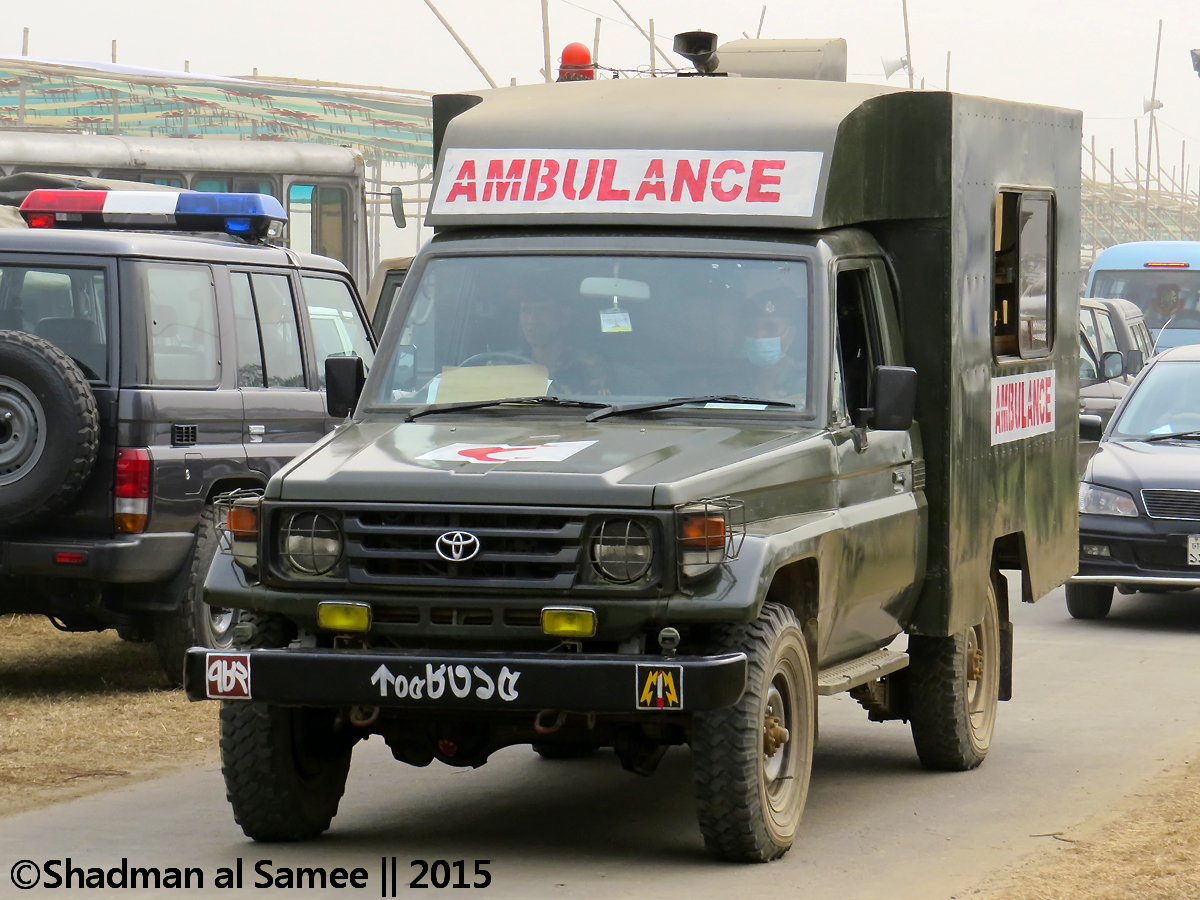Ambulance: (184, 26, 1090, 862), (0, 146, 400, 681)
Bus: (1088, 242, 1200, 353)
private car: (1086, 350, 1200, 612), (1082, 299, 1141, 392)
